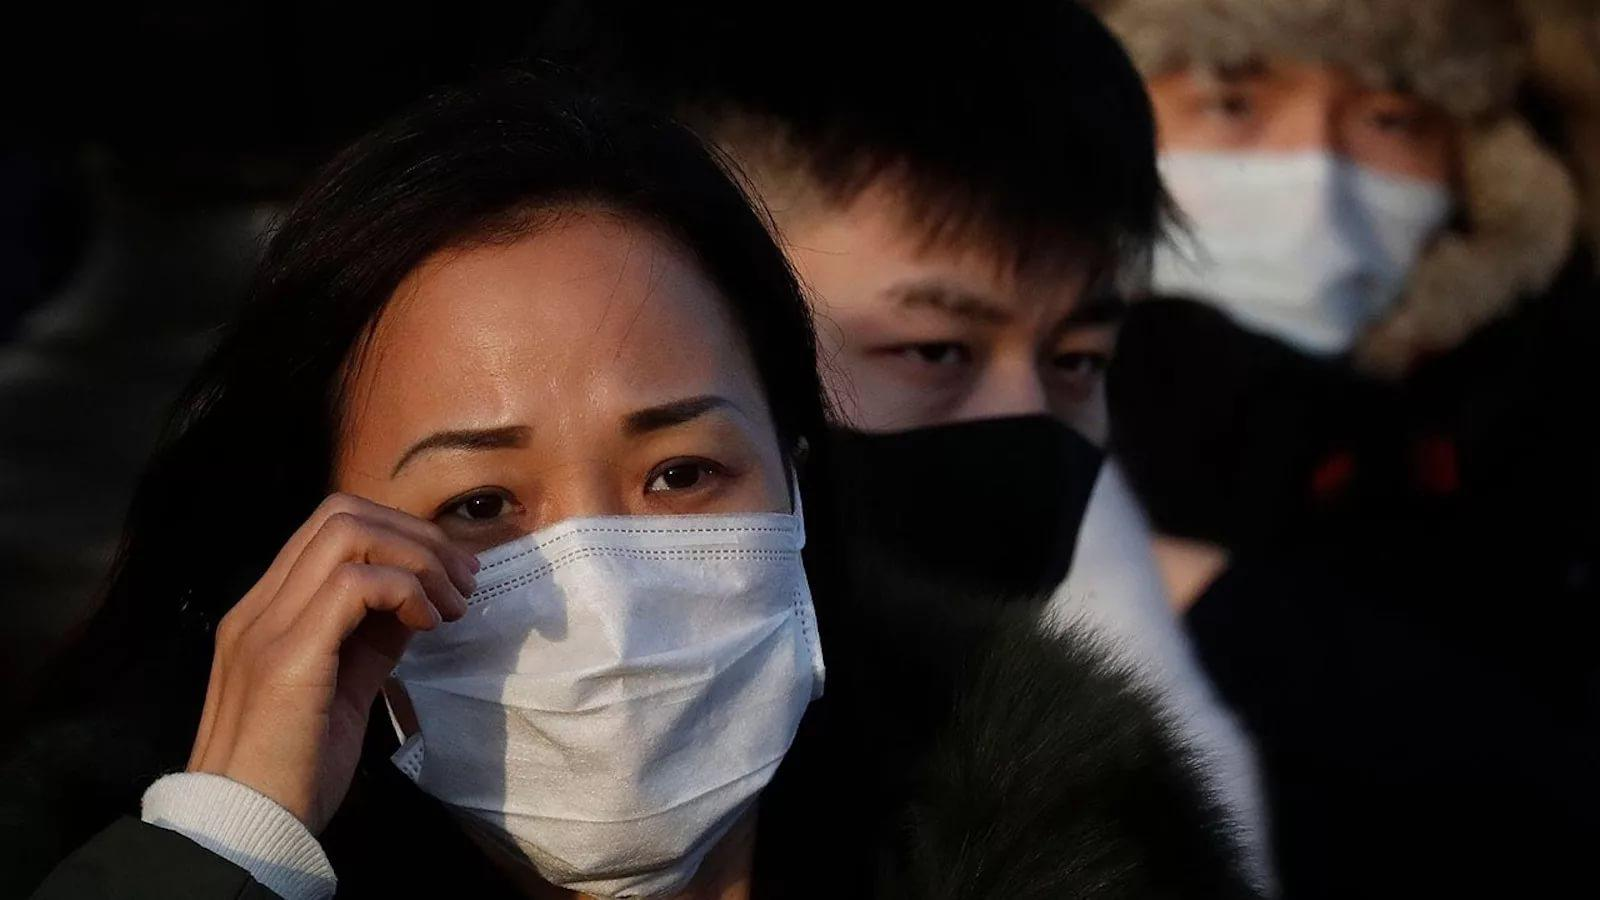mask: (338, 279, 827, 885)
